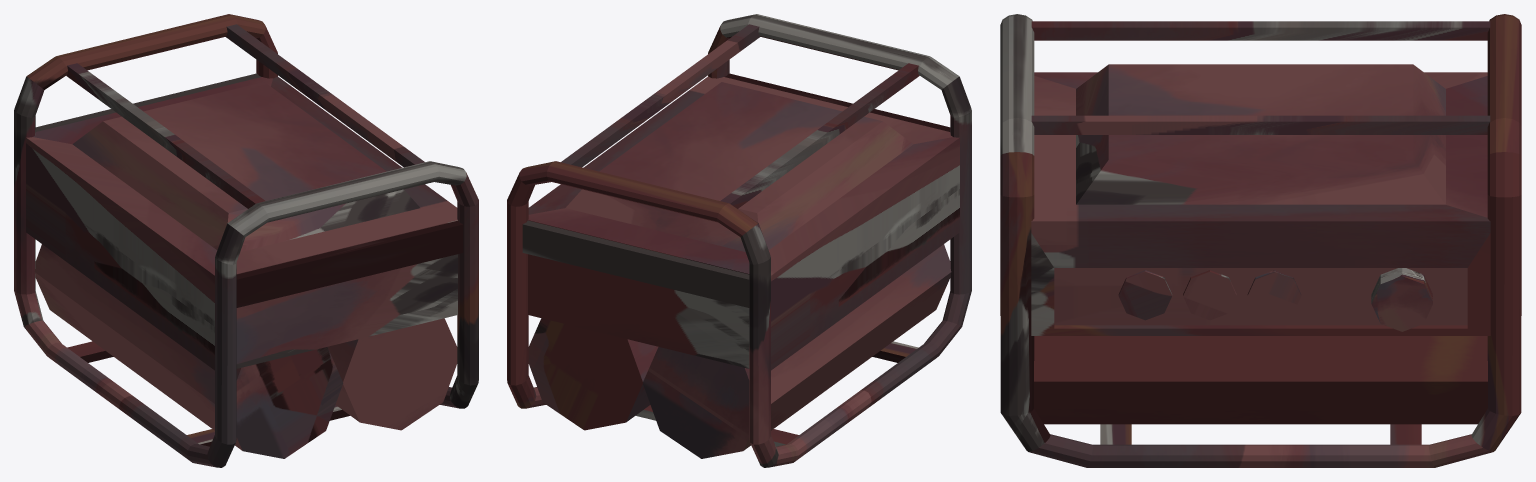
The model's file is generator.fbx.
The picture shows the model from 3 angles, left to right: view 1: azimuth 30°, elevation 25°; view 2: azimuth 150°, elevation 25°; view 3: azimuth 270°, elevation 25°; orthographic projection. The views are drawn at different scales.
Parts seen in each view (by area): view 1: generator; view 2: generator; view 3: generator.
Part boxes in pixels (x1,y1,x2,y2): generator: (14,14,478,467); generator: (507,14,971,467); generator: (1000,14,1521,467).
Size of the model in its own units: 219 by 214 by 307.
